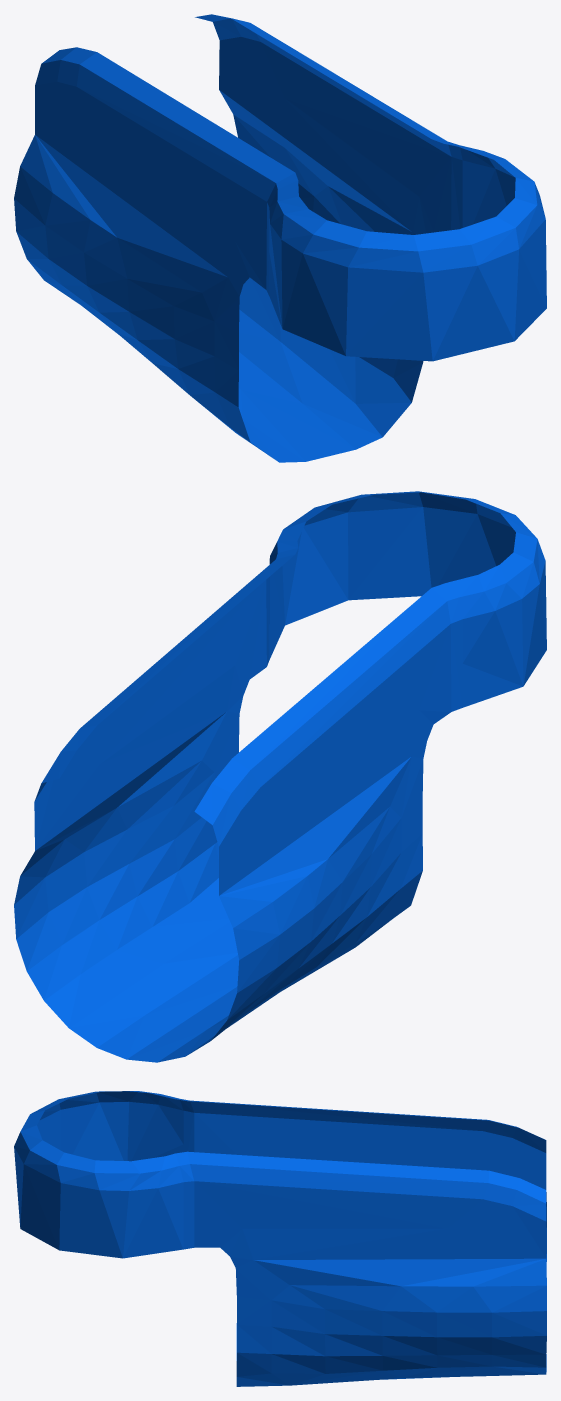
File: LARM_LINK3_mesh.dae
3 renders of one model, top to bottom at view 1: azimuth 30°, elevation 25°; view 2: azimuth 150°, elevation 25°; view 3: azimuth 270°, elevation 25°, orthographic. The views are drawn at different scales.
Visible parts, largest first — view 1: LARM_LINK3; view 2: LARM_LINK3; view 3: LARM_LINK3.
Boxes of the visible parts, left/top/right/bottom form: LARM_LINK3: left=14, top=14, right=546, bottom=462; LARM_LINK3: left=14, top=491, right=546, bottom=1062; LARM_LINK3: left=14, top=1091, right=546, bottom=1386.
Size of the model in its own units: 0.0769 by 0.0985 by 0.1937.
